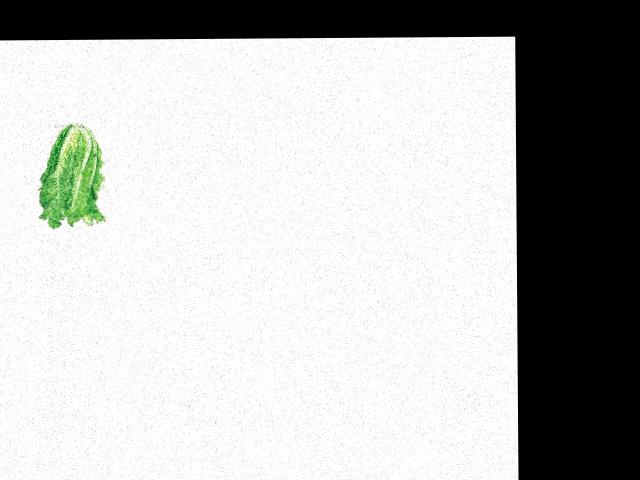lettuce: (37, 125, 108, 229)
